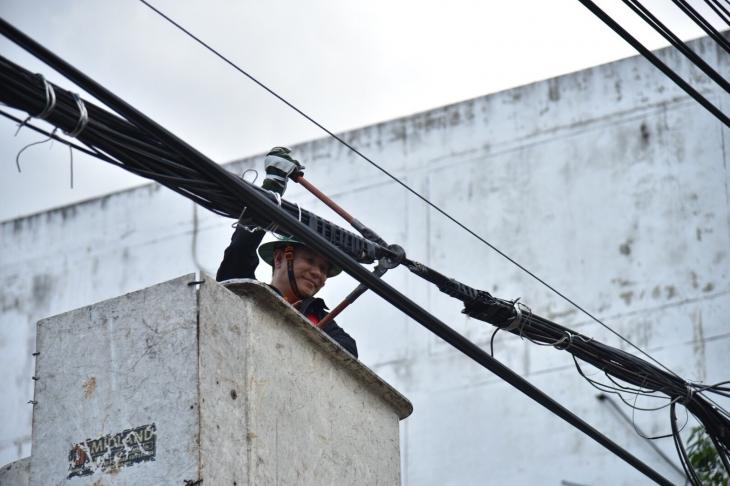wires-only: (408, 254, 730, 462), (0, 20, 188, 170), (193, 165, 395, 246)
